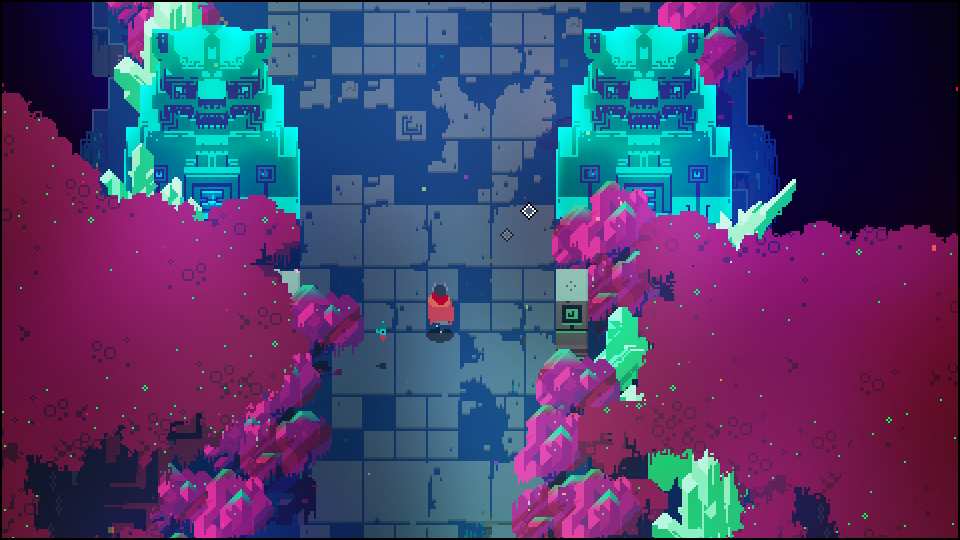player: (427, 284, 453, 336)
